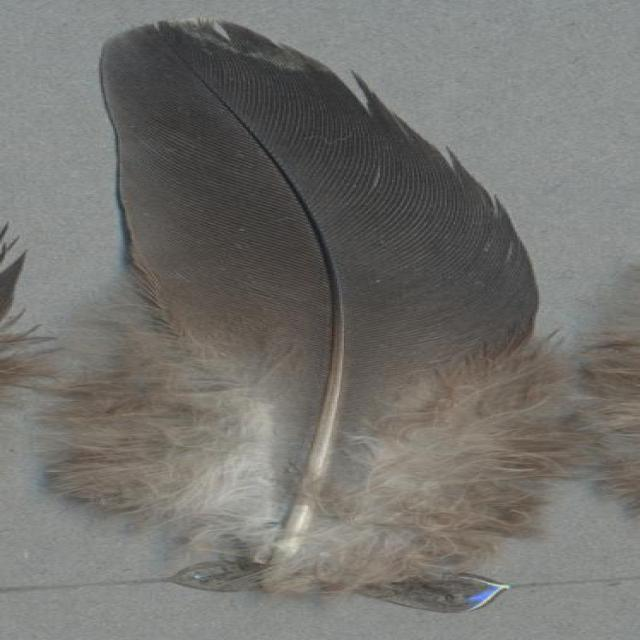feather: (24, 13, 609, 608)
